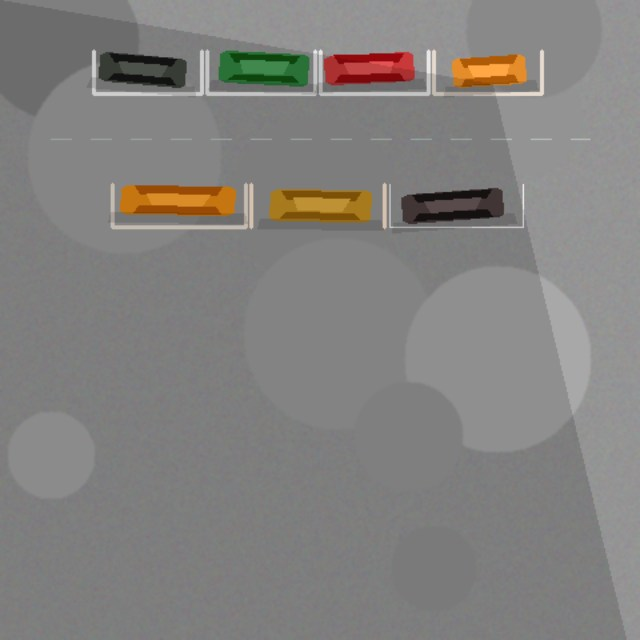space-occupied: (389, 184, 523, 227), (112, 184, 245, 227), (251, 184, 384, 227), (93, 51, 201, 93), (207, 51, 315, 93), (320, 51, 428, 93), (433, 51, 541, 93)
